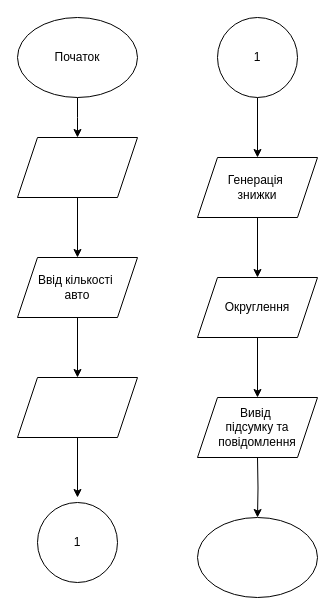
Some shapes in this 335 by 615 pixel diagram are drawn without their labels. The centre of each missing label's shape, as x and y in pixels:
Вивід меню товарів: the point at 77,167
Кінець: the point at 257,557
Розрахунок вартості кожного авто: the point at 77,407
